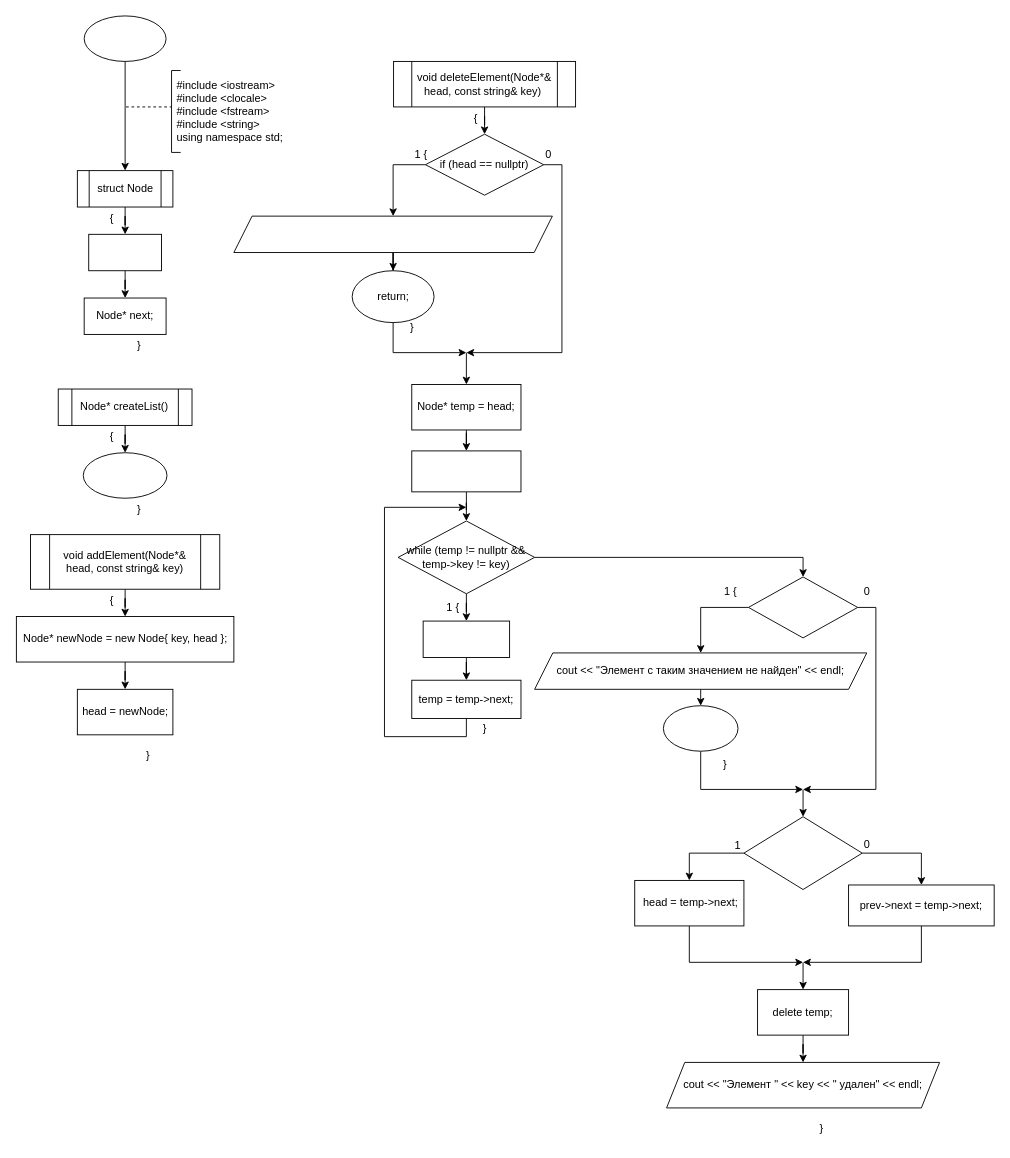
Some shapes in this 1010 by 1158 pixel diagram are drawn without their labels. Here are the shapes that lost their labels. From the top down, the box of each, then its label:
(83, 15, 166, 61): Начало
(88, 233, 162, 271): string key;
(233, 215, 552, 253): cout << "Список пустой, удаление невозможно" << endl;
(82, 452, 167, 498): return nullptr;
(411, 450, 521, 492): Node* prev = nullptr;
(748, 576, 858, 638): if (temp == nullptr)
(422, 620, 510, 657): prev = temp;
(662, 705, 738, 751): return
(743, 816, 862, 890): if (prev == nullptr)
